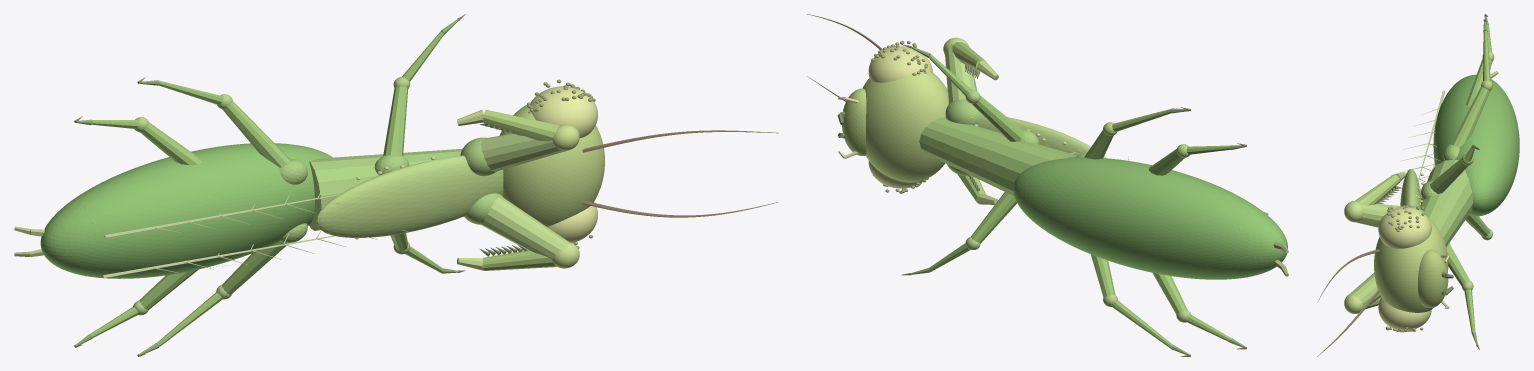
Rendered from mantis_detailed_game_asset.glb.
3 views of the same model, side by side, from view 1: azimuth 30°, elevation 25°; view 2: azimuth 150°, elevation 25°; view 3: azimuth 270°, elevation 25° (orthographic). The views are drawn at different scales.
Visible parts, largest first — view 1: abdomen_segmented_core, pronotum_shield, head_capsule, prothorax_main, raptorial_femur, compound_eye_1, raptorial_femur_1, walking_femur_4, raptorial_tibia_1, walking_femur_3, raptorial_tibia, walking_femur_1 (+5 smaller); view 2: abdomen_segmented_core, head_capsule, prothorax_main, compound_eye_1, face_clypeus, pronotum_shield, walking_femur_3, raptorial_femur_1, walking_femur, raptorial_coxa_1, walking_femur_2, walking_femur_1 (+7 smaller); view 3: abdomen_segmented_core, head_capsule, prothorax_main, compound_eye_1, face_clypeus, compound_eye, walking_femur_4, pronotum_shield, raptorial_tibia_1, walking_femur_3, raptorial_femur_1, raptorial_femur (+9 smaller).
Boxes of the visible parts, x1,y1,x2,y2 form: abdomen_segmented_core: (40, 143, 332, 278); pronotum_shield: (316, 155, 503, 237); head_capsule: (499, 105, 604, 226); prothorax_main: (309, 148, 462, 230); raptorial_femur: (481, 197, 569, 259); compound_eye_1: (530, 86, 597, 137); raptorial_femur_1: (480, 125, 565, 171); walking_femur_4: (222, 101, 290, 167); raptorial_tibia_1: (482, 109, 559, 141); walking_femur_3: (383, 86, 408, 155); raptorial_tibia: (482, 250, 556, 270); walking_femur_1: (222, 241, 286, 294); abdomen_segmented_core: (1013, 157, 1287, 279); head_capsule: (862, 71, 948, 182); prothorax_main: (919, 117, 1077, 195); compound_eye_1: (868, 46, 932, 82); face_clypeus: (842, 88, 866, 155); pronotum_shield: (977, 114, 1106, 158); walking_femur_3: (972, 96, 1024, 141); raptorial_femur_1: (945, 43, 977, 104); walking_femur: (971, 192, 1016, 243); raptorial_coxa_1: (945, 99, 981, 124); walking_femur_2: (1152, 272, 1187, 314); walking_femur_1: (1091, 254, 1115, 297); abdomen_segmented_core: (1433, 74, 1519, 216); head_capsule: (1374, 217, 1448, 312); prothorax_main: (1420, 159, 1473, 246); compound_eye_1: (1378, 207, 1431, 248); face_clypeus: (1418, 249, 1448, 308); compound_eye: (1378, 297, 1431, 330); walking_femur_4: (1451, 86, 1489, 147); pronotum_shield: (1400, 169, 1421, 207); raptorial_tibia_1: (1355, 174, 1400, 205); walking_femur_3: (1430, 158, 1468, 193); raptorial_femur_1: (1356, 203, 1400, 227); raptorial_femur: (1350, 273, 1380, 306).
Size of the model in its own units: 3.94 by 1.61 by 1.36.
